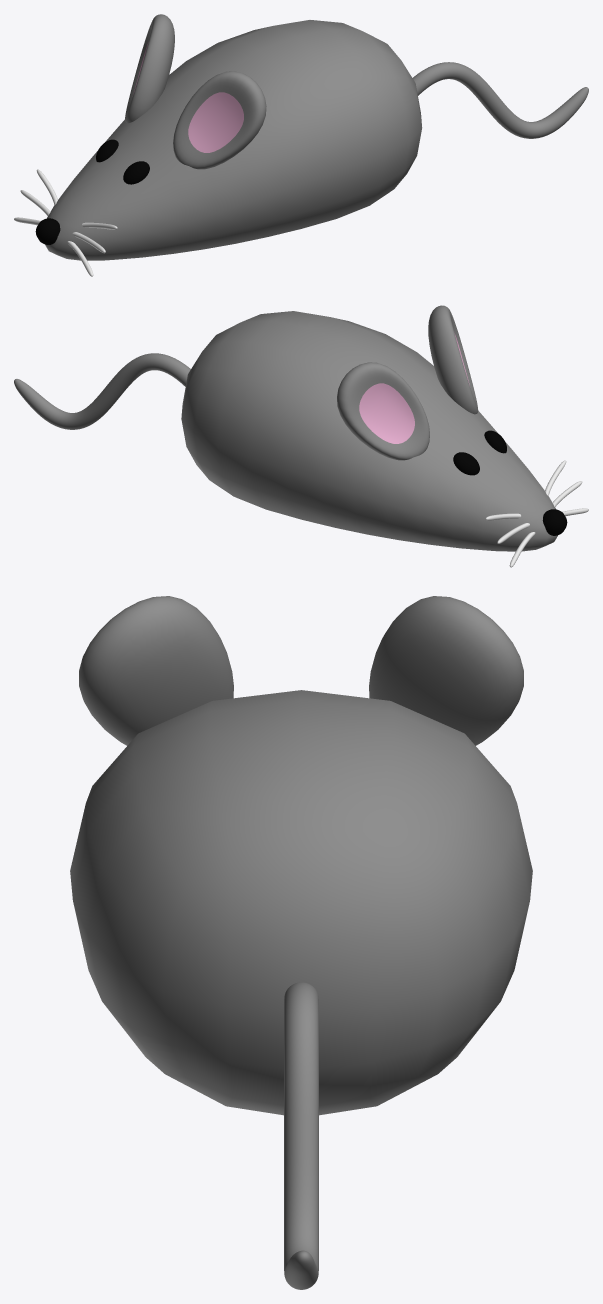
File: Mouse.fbx
3 views of the same model, one above another, from view 1: azimuth 30°, elevation 25°; view 2: azimuth 150°, elevation 25°; view 3: azimuth 270°, elevation 25° (orthographic). The views are drawn at different scales.
Parts seen in each view (by area): view 1: Mouse; view 2: Mouse; view 3: Mouse.
Boxes of the visible parts, x1,y1,x2,y2 form: Mouse: (14, 14, 588, 276); Mouse: (14, 305, 588, 567); Mouse: (70, 596, 532, 1289).
Size of the model in its own units: 420 by 139 by 153.
